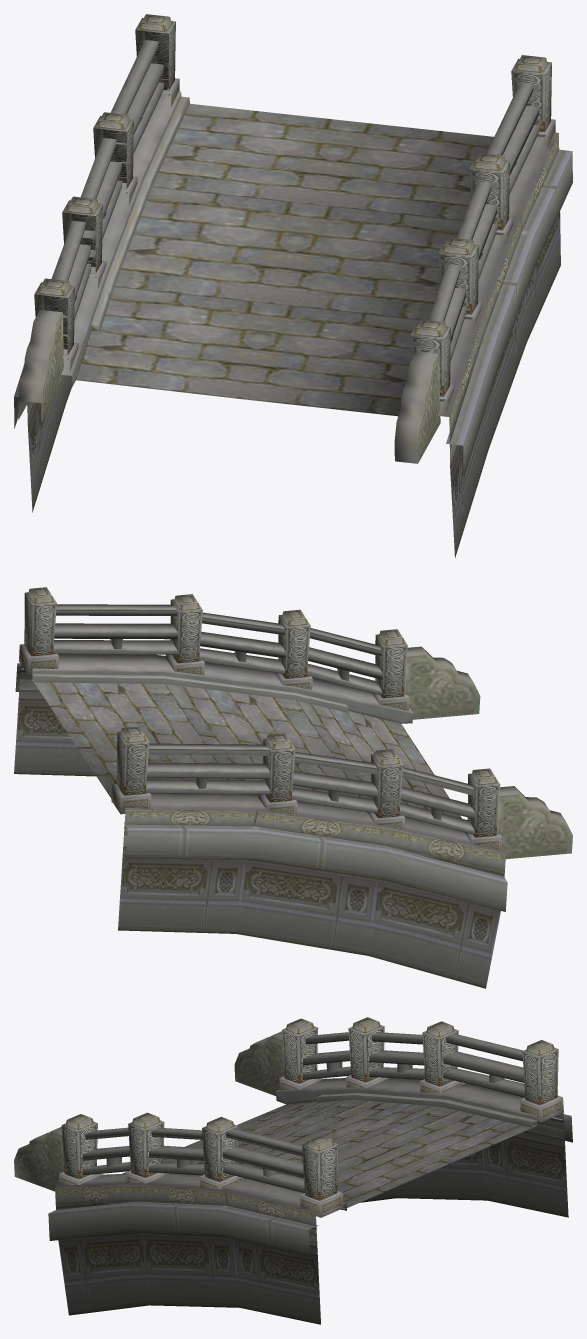
Rendered from S2_Build_XSC083_H1.FBX.
The picture shows the model from 3 angles, top to bottom: view 1: azimuth 30°, elevation 25°; view 2: azimuth 150°, elevation 25°; view 3: azimuth 270°, elevation 25°; orthographic projection. The views are drawn at different scales.
Parts seen in each view (by area): view 1: S2_Build_XSC083_H1; view 2: S2_Build_XSC083_H1; view 3: S2_Build_XSC083_H1.
Part boxes in pixels (left/top/right/bottom): S2_Build_XSC083_H1: left=14, top=14, right=572, bottom=557; S2_Build_XSC083_H1: left=14, top=587, right=572, bottom=988; S2_Build_XSC083_H1: left=14, top=1017, right=572, bottom=1324.
Bounding box in the file's own units: 1532 × 812 × 1541.
